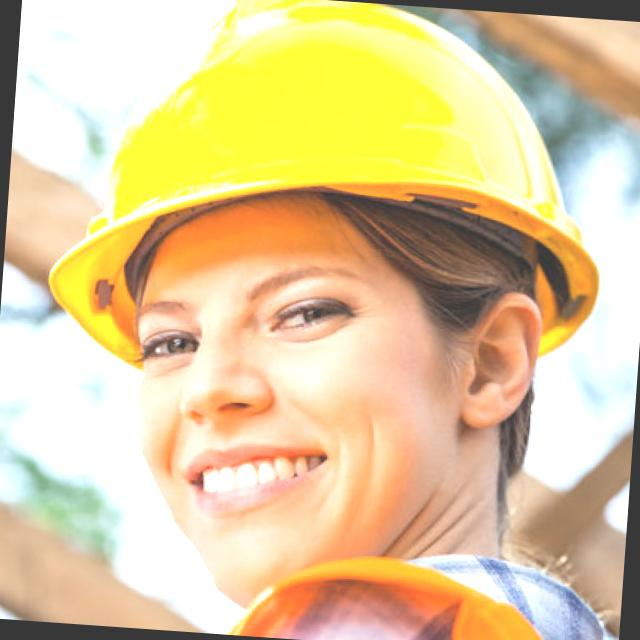helmet: (39, 0, 590, 391)
no-goggles: (108, 245, 449, 392)
vest: (202, 538, 561, 640)
